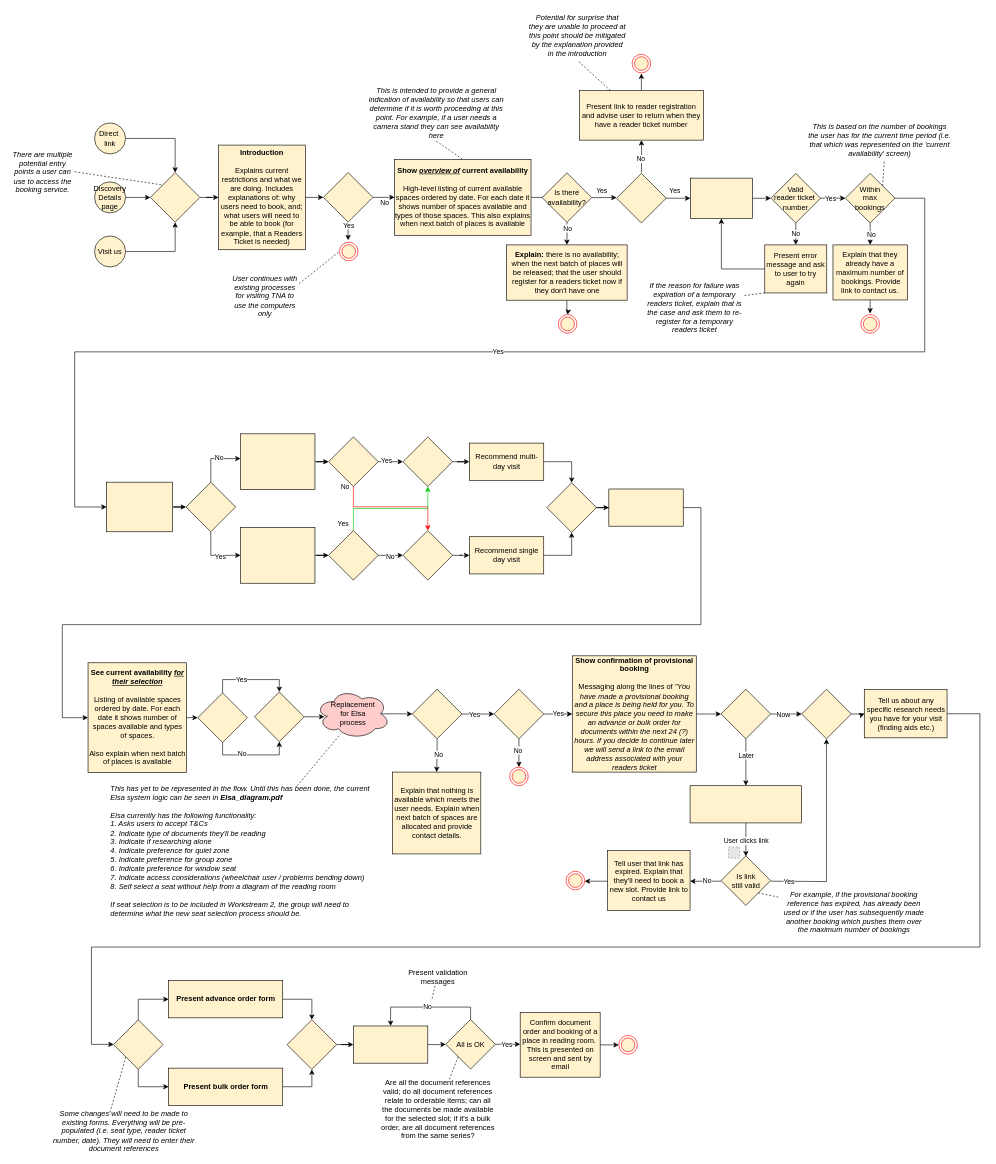
Some shapes in this 996 by 1164 pixel diagram are drawn without their labels. Grey dashed boxes stand in for pictures. Each missing label, with the centre of its shape:
Are you requesting documents from more than one Series: [139,507]
Camera stand needed?: [222,717]
Complete and submit form: [390,1044]
Computer use only?: [348,197]
Continue: [745,714]
Enter reader ticket number: [721,198]
Has a reader ticket?: [641,198]
Option available: [437,714]
Select number of days to visit: [645,507]
Selects seat from options: [519,714]
Sent a link to the email address associated with readers ticket: [745,804]
Would you like to order more than 12 documents? You can order up to 24.: [277,555]
Would you like to order more than 20 documents? You can order up to 40.: [277,461]
